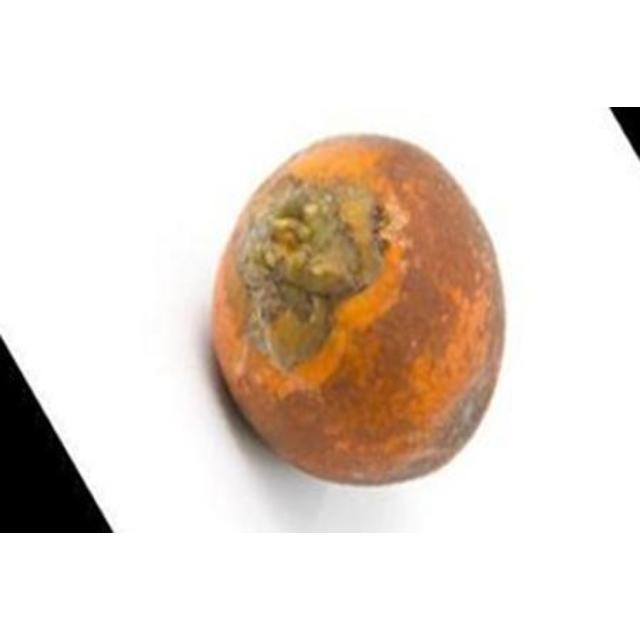good: (209, 137, 506, 488)
